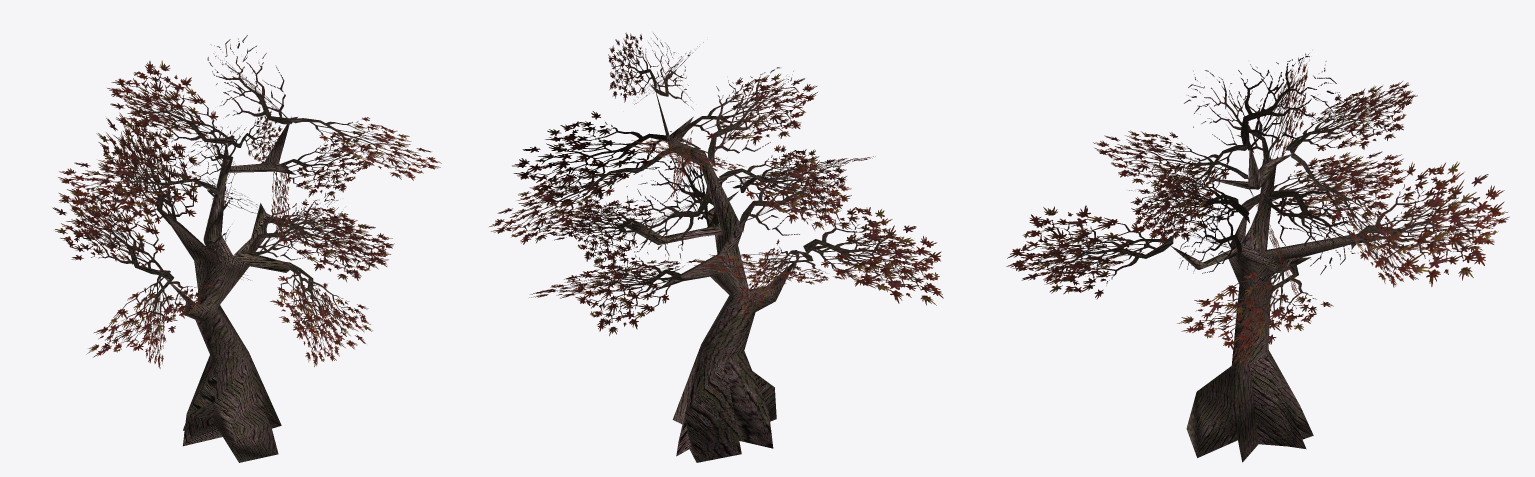
Rendered from decd_dath_blacktree_l2.fbx.
3 views of the same model, side by side, from view 1: azimuth 30°, elevation 25°; view 2: azimuth 150°, elevation 25°; view 3: azimuth 270°, elevation 25° (orthographic). The views are drawn at different scales.
Parts seen in each view (by area): view 1: mesh_node; view 2: mesh_node; view 3: mesh_node.
Part boxes in pixels (bbox=[...]): mesh_node: bbox=[52, 35, 441, 462]; mesh_node: bbox=[489, 32, 943, 462]; mesh_node: bbox=[1006, 53, 1509, 462].
Size of the model in its own units: 15.36 by 15.96 by 17.62.
